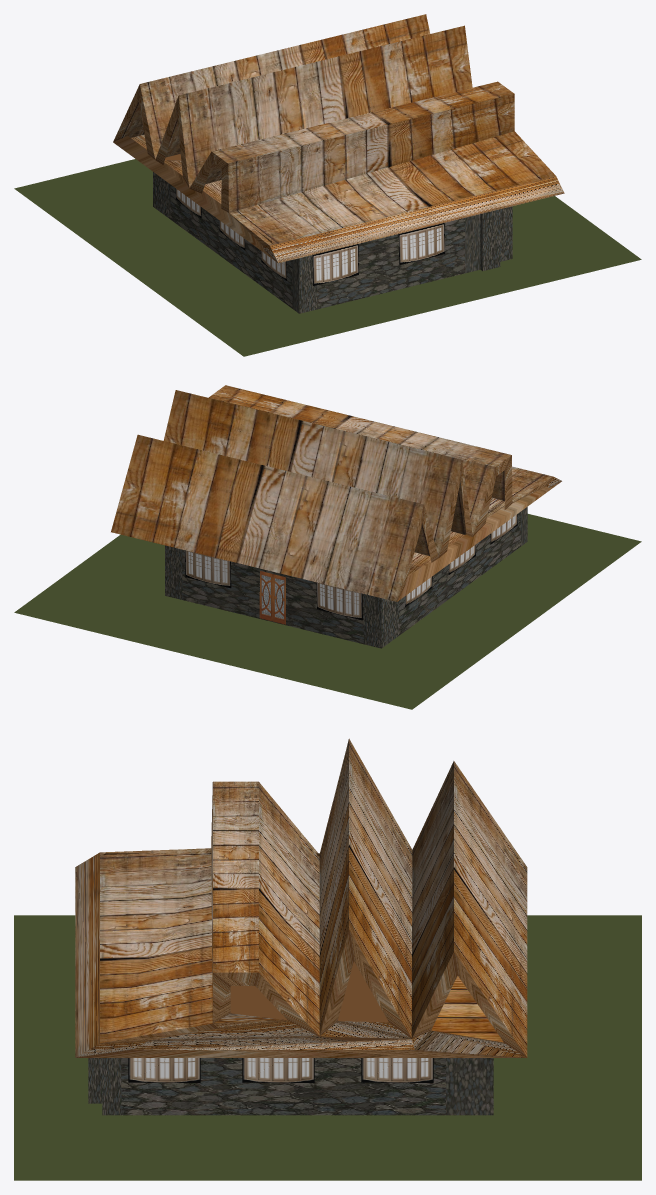
File: asian_house.glb
3 views of the same model, one above another, from view 1: azimuth 30°, elevation 25°; view 2: azimuth 150°, elevation 25°; view 3: azimuth 270°, elevation 25° (orthographic). The views are drawn at different scales.
Parts seen in each view (by area): view 1: Plane, Plane.001, Cube, bow-windows, bow-windows.001; view 2: Plane, Plane.001, Cube, F34707800, bow-windows.005, bow-windows.006; view 3: Plane, Plane.001, Cube, bow-windows.008, bow-windows.009, bow-windows.010.
Part boxes in pixels (x1,y1,x2,y2): Plane: (113,14,564,263); Plane.001: (14,159,641,356); Cube: (153,172,512,313); bow-windows: (312,244,358,285); bow-windows.001: (398,223,445,264); Plane: (111,385,561,601); Plane.001: (14,514,641,709); Cube: (165,507,527,648); F34707800: (259,571,285,624); bow-windows.005: (316,582,362,620); bow-windows.006: (185,550,231,588); Plane: (75,738,527,1057); Plane.001: (14,915,641,1180); Cube: (88,1058,493,1115); bow-windows.008: (361,1058,433,1082); bow-windows.009: (242,1058,314,1082); bow-windows.010: (128,1058,200,1082).
Size of the model in its own units: 13.54 by 5.12 by 13.54.
Materials: 5 (5 with a texture image).
